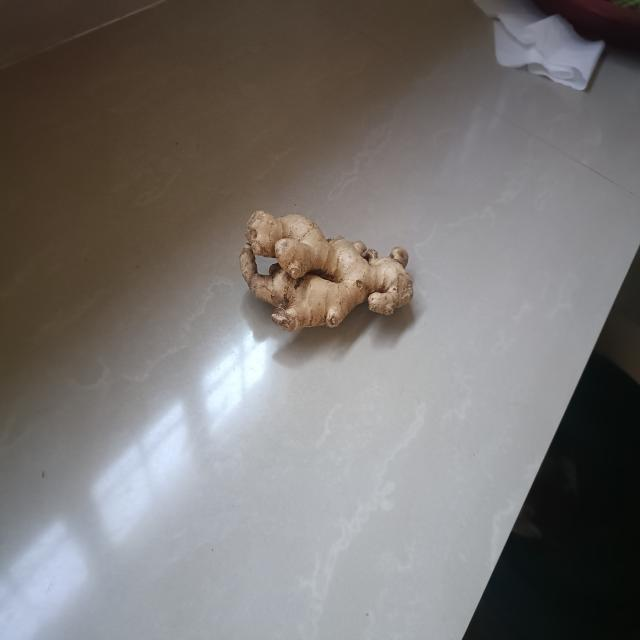ginger: (239, 209, 414, 328)
